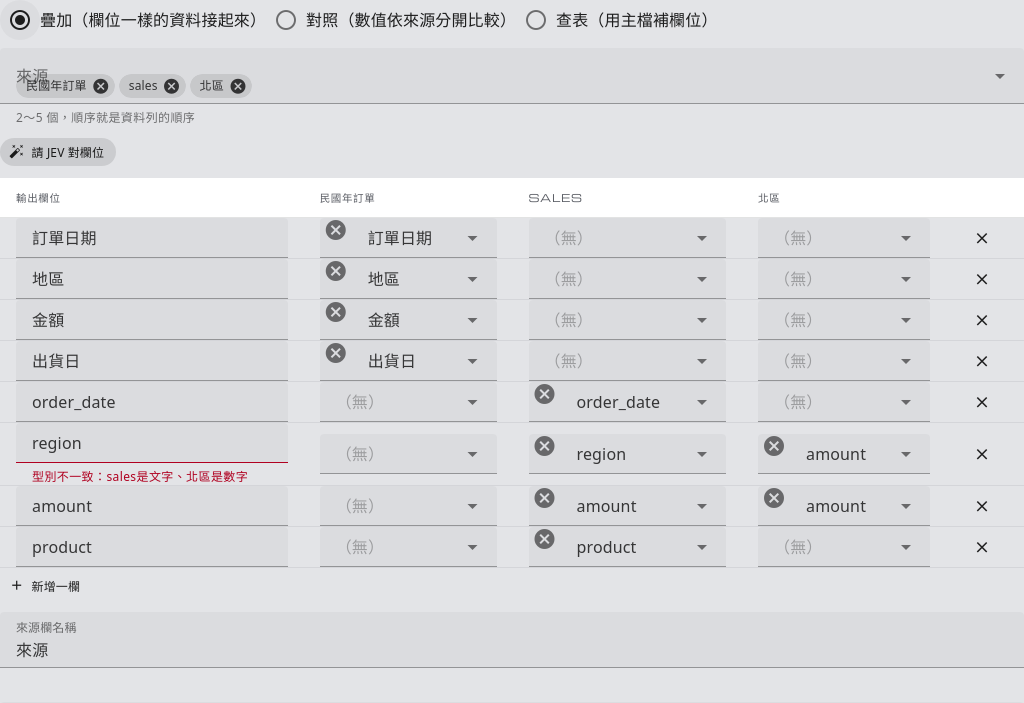
MergeForm（JEV 對欄位） › skips a match when the user changed another source's cell in that row
Click the button "請 JEV 對欄位" at (58, 152), box top-left (0, 138), bottom-right (116, 166)
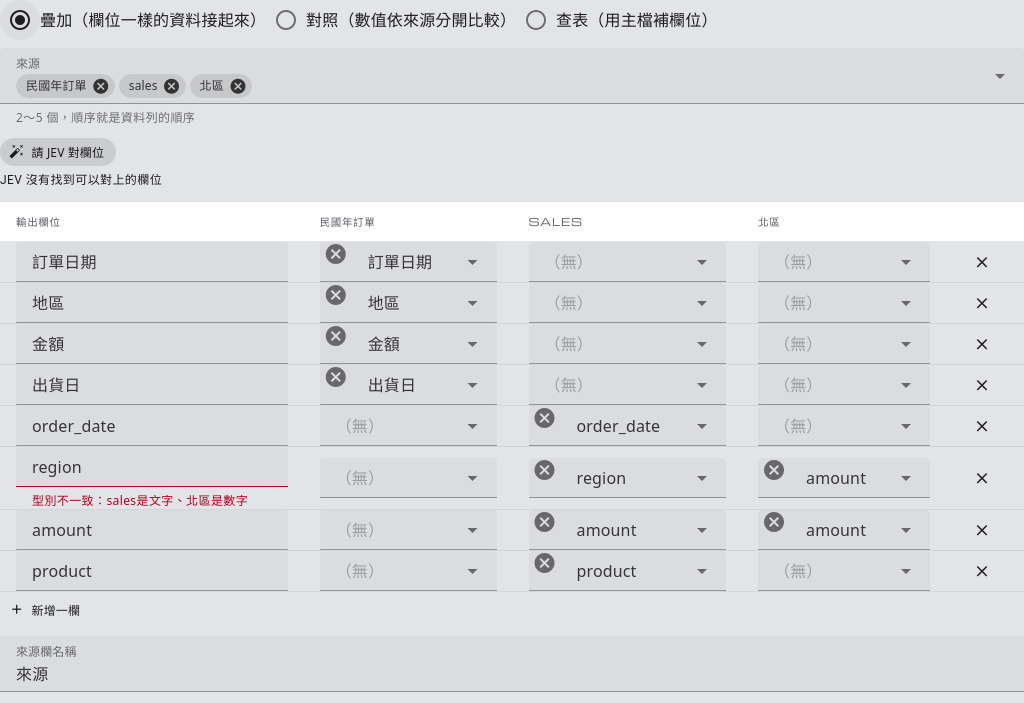
Check: the text "region" is shown, box top-left (576, 466), bottom-right (626, 490)
Check: the text "JEV 沒有找到可以對上的欄位" is shown, box top-left (0, 173), bottom-right (162, 187)
